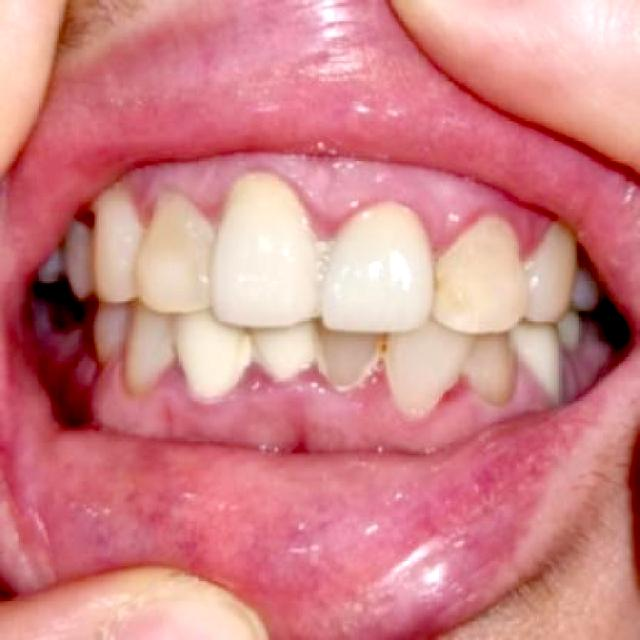Plaque: (125, 159, 555, 261), (101, 357, 503, 440)
